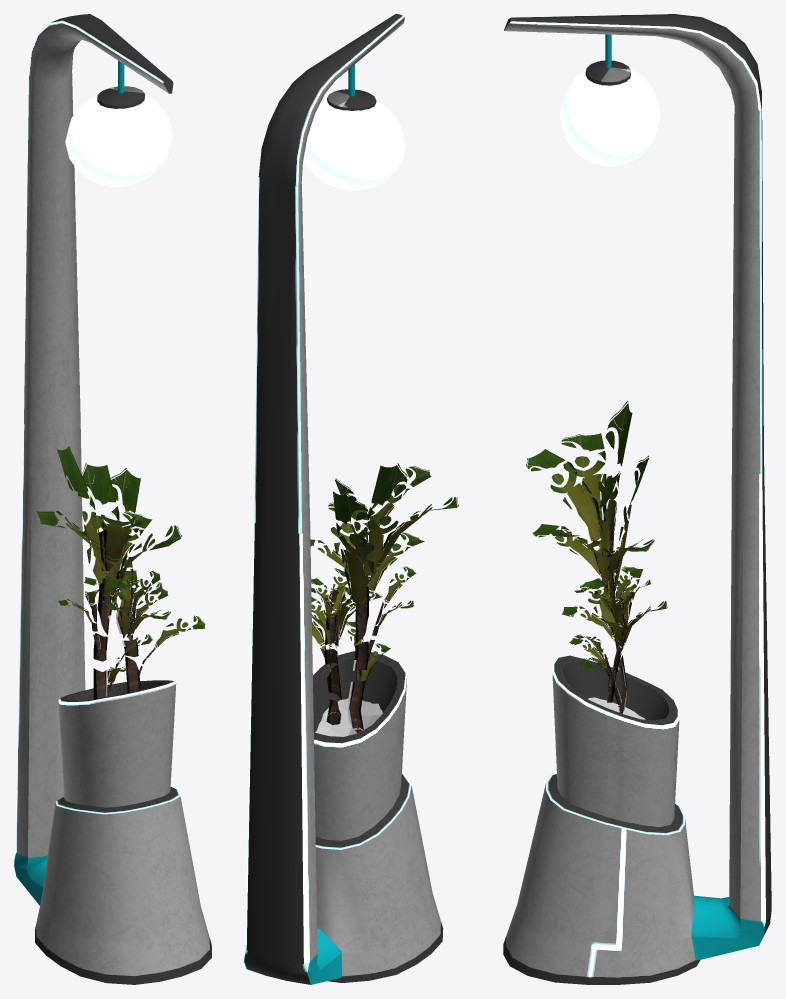
The model's file is LAMPARAMACETA.fbx.
The picture shows the model from 3 angles, left to right: view 1: azimuth 30°, elevation 25°; view 2: azimuth 150°, elevation 25°; view 3: azimuth 270°, elevation 25°; orthographic projection. The views are drawn at different scales.
Parts seen in each view (by area): view 1: Lamparamaceta, matas; view 2: Lamparamaceta, matas, tierra; view 3: Lamparamaceta, matas.
Boxes of the visible parts, box(x1,y1,x2,y2) form: Lamparamaceta: box(14, 14, 211, 984); matas: box(36, 446, 205, 699); Lamparamaceta: box(244, 14, 443, 984); matas: box(310, 463, 458, 733); tierra: box(315, 698, 382, 736); Lamparamaceta: box(503, 14, 771, 984); matas: box(526, 401, 667, 713).
Bounding box in the file's own units: 45.98 × 202 × 52.86.
